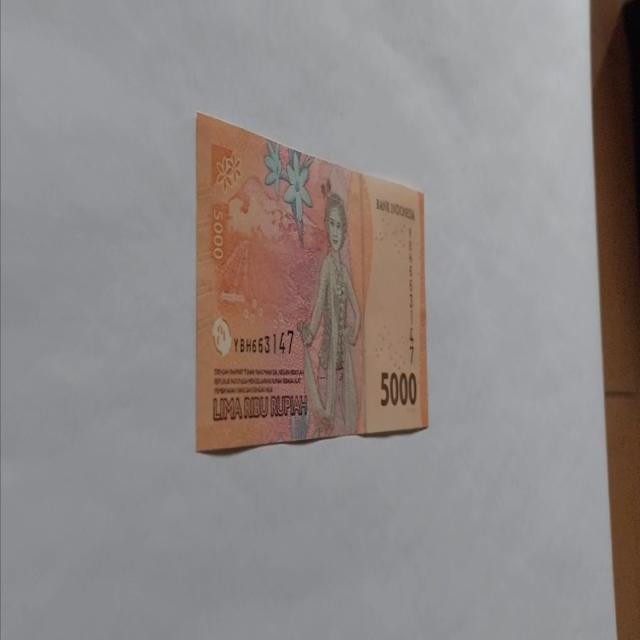lima ribu rupiah: (194, 110, 430, 453), (296, 191, 362, 438)
